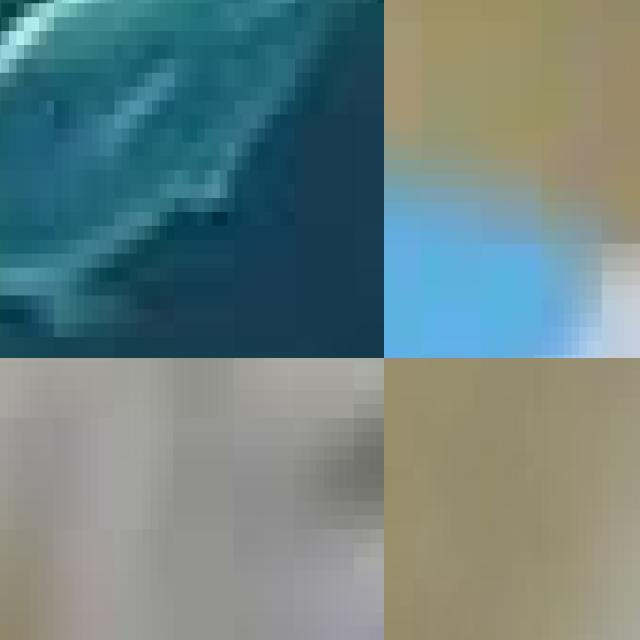fish: (0, 0, 384, 358), (0, 358, 384, 640)
